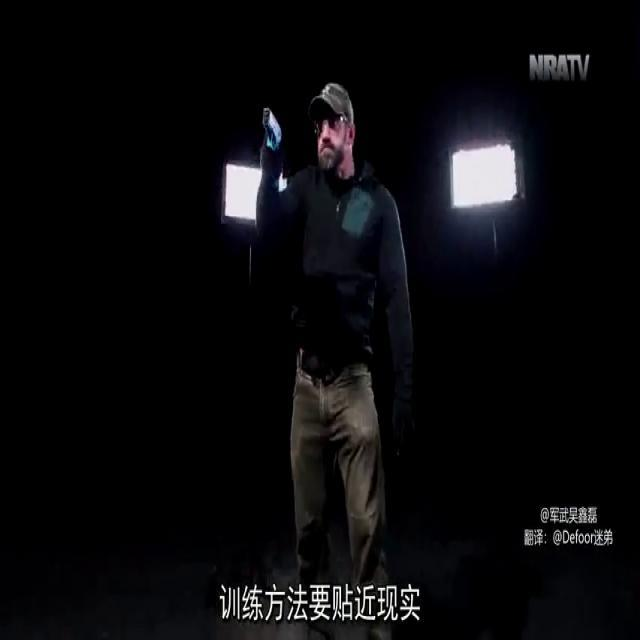gun-knife-thesis - v11 Yolov5 augmented: (238, 88, 286, 216)
